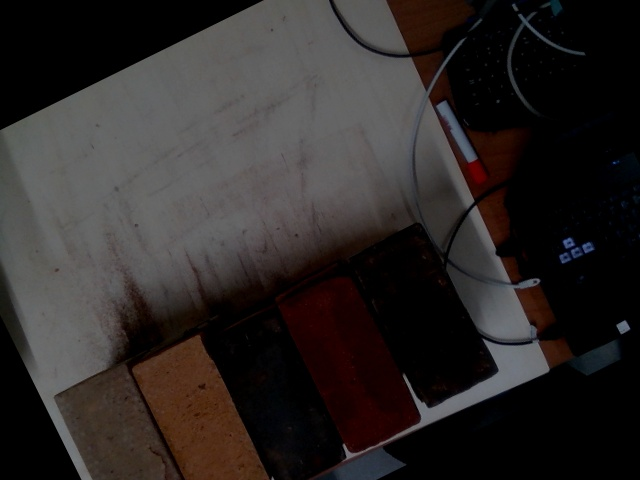brick: (352, 225, 497, 407), (281, 276, 422, 453), (207, 313, 348, 479), (131, 337, 271, 479), (56, 368, 196, 479)
